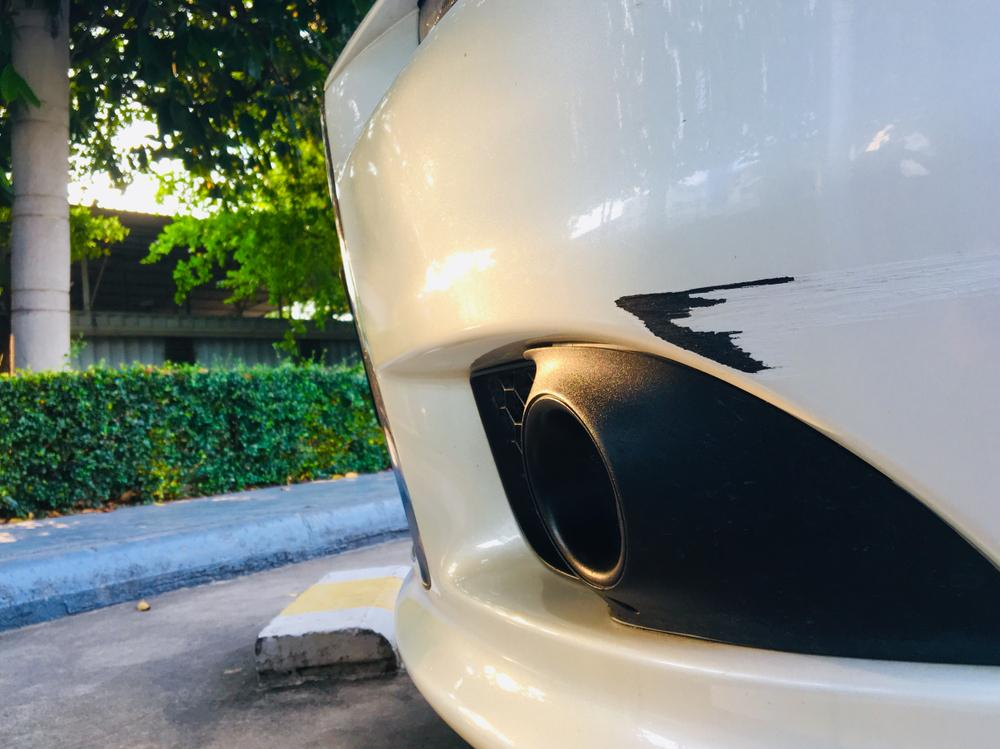scratch: (606, 250, 1000, 379)
